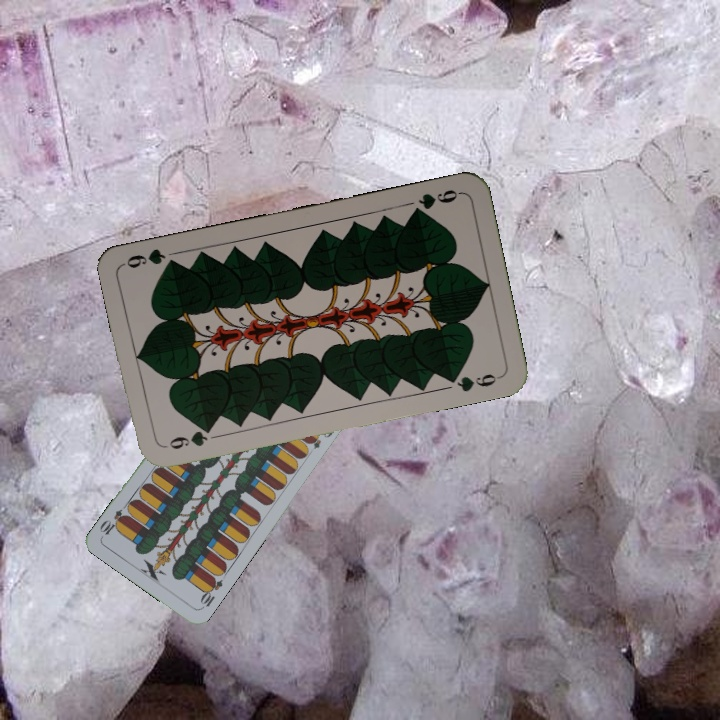E10: (196, 573, 225, 612)
G9: (407, 185, 464, 218), (165, 422, 216, 452)
